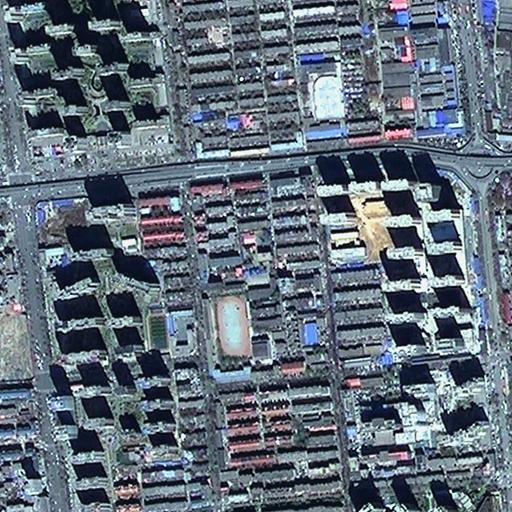school: (208, 290, 274, 385), (299, 56, 347, 132), (144, 311, 199, 359)
